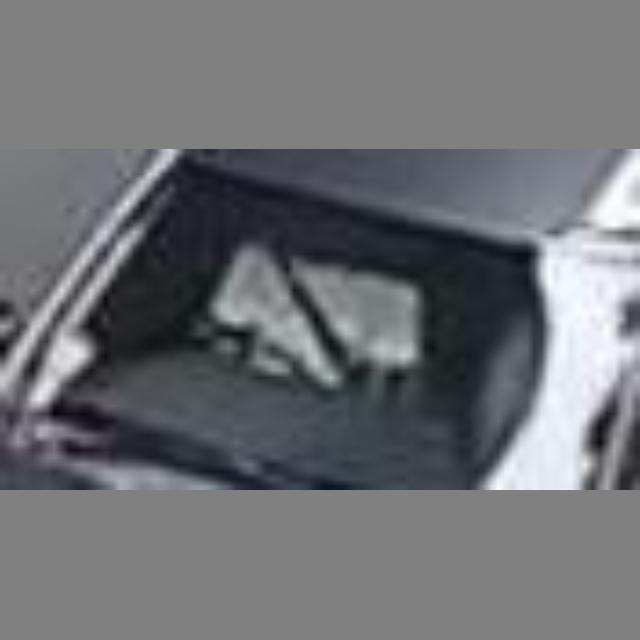pakai: (211, 207, 415, 389)
